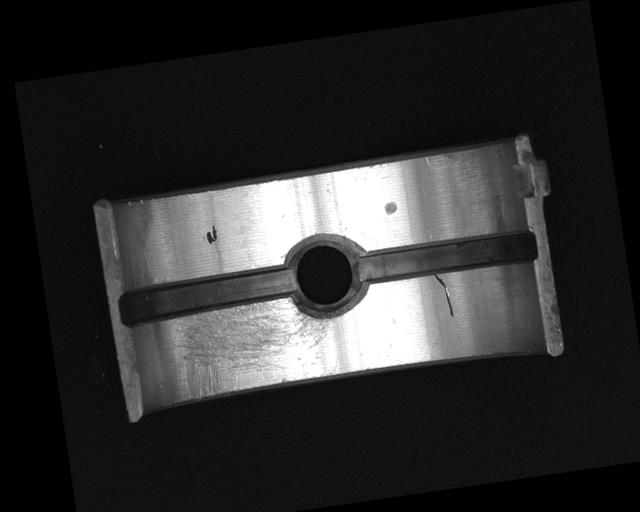blot: (204, 224, 219, 245)
bruise: (383, 199, 398, 215)
gap: (354, 225, 540, 288), (115, 263, 299, 326)
hole: (281, 228, 371, 324)
nick: (434, 270, 455, 318)
scratch: (166, 290, 341, 402)
